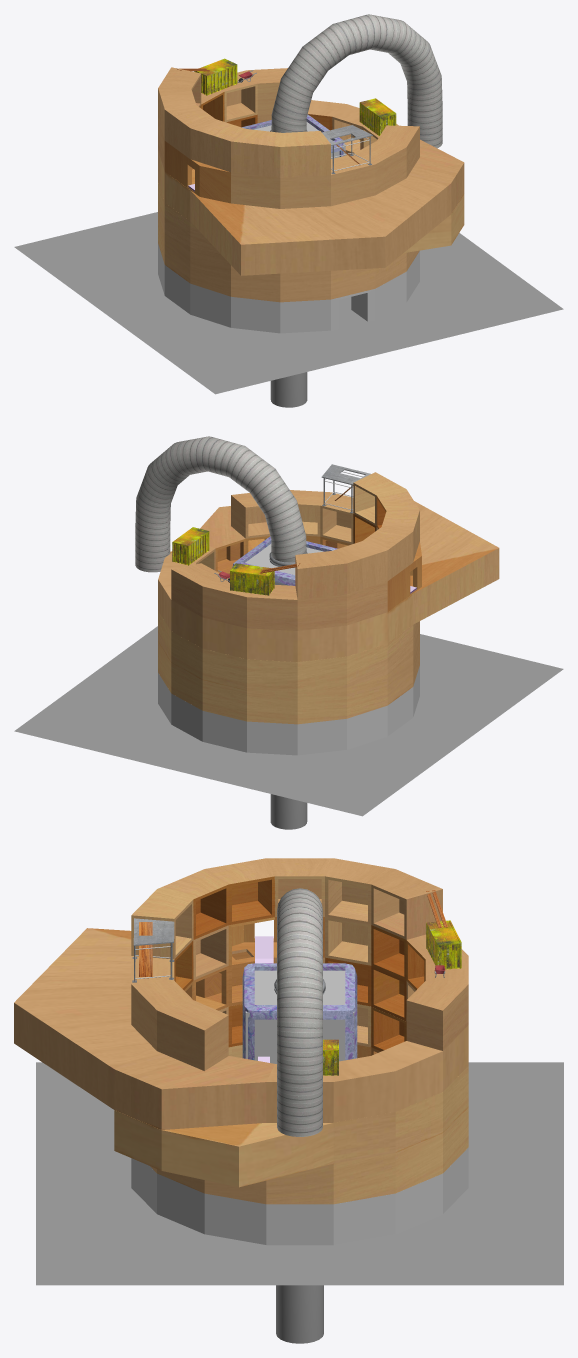
Rendered from Level2_textured.fbx.
3 views of the same model, one above another, from view 1: azimuth 30°, elevation 25°; view 2: azimuth 150°, elevation 25°; view 3: azimuth 270°, elevation 25° (orthographic). The views are drawn at different scales.
Visible parts, largest first — view 1: Floor, Ring16Segments4, Ring16Top1, Pipe, Ring16Top2, Ring16Segments, Ring16Segments2, Ring16Segments3, Container1, Container, Platte; view 2: Floor, Ring16Segments4, Ring16Top1, Pipe, Ring16Top2, Ring16Segments, Ring16Segments2, Ring16Segments3, Container1, Container, GlassFrame, Glass (+1 smaller); view 3: Floor, Ring16Segments4, Ring16Top1, Ring16Segments3, Ring16Top2, Ring16Segments, Pipe, Ring16Segments2, GlassFrame, Glass, Platte, Container1 (+1 smaller).
Part boxes in pixels (x1,y1,x2,y2): Floor: (14,212,563,407); Ring16Segments4: (158,100,464,275); Ring16Top1: (158,68,419,208); Pipe: (271,14,442,148); Ring16Top2: (158,67,330,177); Ring16Segments: (158,244,419,333); Ring16Segments2: (158,212,419,302); Ring16Segments3: (158,152,464,265); Container1: (194,58,237,95); Container: (359,98,396,135); Platte: (322,125,372,164); Floor: (14,626,563,829); Ring16Segments4: (158,501,499,662); Ring16Top1: (171,490,421,630); Pipe: (135,436,306,572); Ring16Top2: (295,472,419,599); Ring16Segments: (158,666,419,755); Ring16Segments2: (158,634,419,724); Ring16Segments3: (158,551,419,693); Container1: (230,563,274,595); Container: (172,527,209,565); GlassFrame: (233,536,337,585); Glass: (232,544,323,585); Floor: (36,1062,563,1343); Ring16Segments4: (14,928,468,1129); Ring16Top1: (131,917,468,1070); Ring16Segments3: (114,1004,468,1187); Ring16Top2: (131,858,442,959); Ring16Segments: (131,1147,468,1245); Pipe: (277,888,322,1136); Ring16Segments2: (150,1045,468,1204); GlassFrame: (242,963,357,1060); Glass: (245,970,354,1063); Platte: (133,918,174,976); Container1: (426,920,461,969).
Size of the model in its own units: 26.2 by 26.16 by 27.3.
